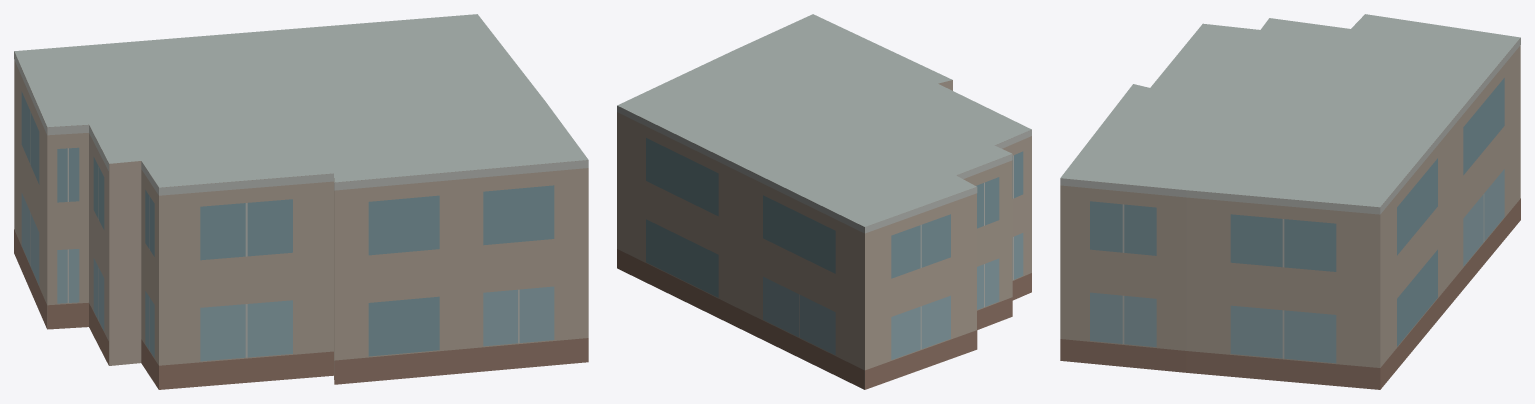
File: survey-upis-32504074.glb
3 views of the same model, side by side, from view 1: azimuth 30°, elevation 25°; view 2: azimuth 150°, elevation 25°; view 3: azimuth 270°, elevation 25° (orthographic). The views are drawn at different scales.
Parts seen in each view (by area): view 1: survey-upis-32504074.tmp; view 2: survey-upis-32504074.tmp; view 3: survey-upis-32504074.tmp.
Boxes of the visible parts, left/top/right/bottom form: survey-upis-32504074.tmp: left=14, top=14, right=588, bottom=389; survey-upis-32504074.tmp: left=617, top=14, right=1031, bottom=389; survey-upis-32504074.tmp: left=1060, top=14, right=1520, bottom=389.
Bounding box in the file's own units: 13.86 × 6.1 × 13.96.
